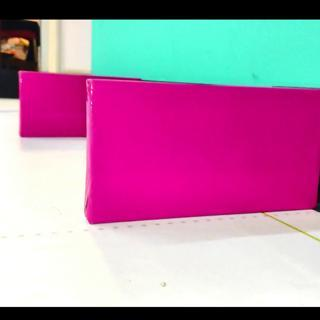xparking: (91, 79, 320, 223), (18, 75, 85, 138)
